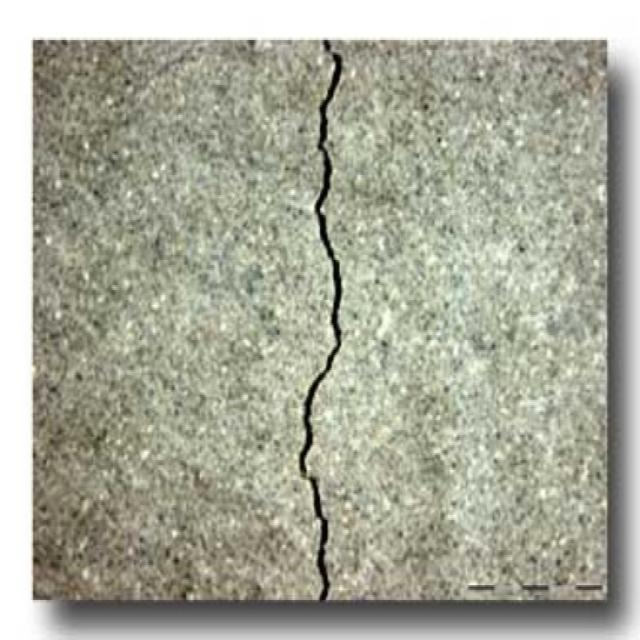Longitudinal: (273, 44, 376, 598)
